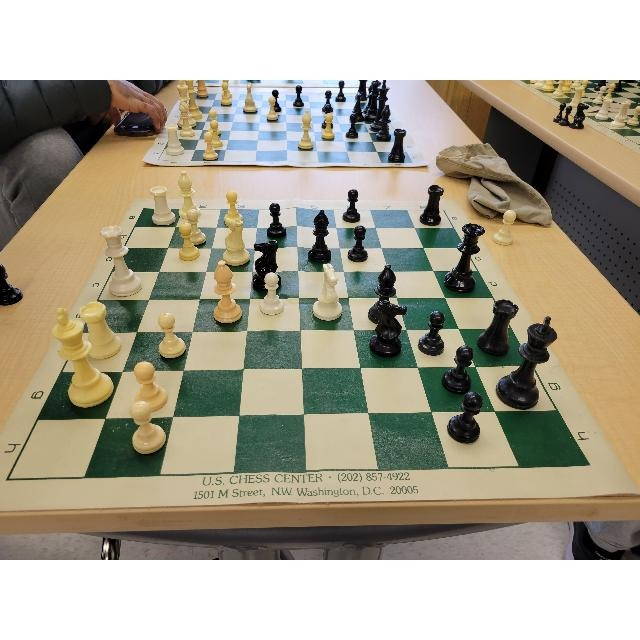black-bishop: (367, 257, 403, 322), (304, 204, 335, 269), (374, 101, 396, 143)
black-king: (493, 312, 563, 412)
black-knight: (367, 296, 410, 362), (250, 238, 283, 290), (349, 92, 365, 123)
black-pawn: (444, 390, 486, 450), (443, 345, 475, 397), (417, 308, 447, 357), (346, 222, 371, 265), (264, 200, 287, 239), (341, 187, 363, 223), (320, 88, 336, 114), (344, 112, 359, 139), (269, 87, 284, 112), (292, 82, 305, 109), (335, 82, 347, 104)
black-queen: (443, 217, 489, 299)
black-rook: (476, 295, 516, 360), (415, 177, 447, 231), (388, 126, 410, 167)
white-bishop: (210, 255, 244, 326), (176, 168, 200, 219), (299, 106, 315, 152), (177, 97, 194, 137)
white-king: (56, 308, 112, 406)
white-knight: (311, 262, 344, 324), (219, 216, 251, 266), (243, 82, 259, 114)
white-pawn: (127, 396, 166, 455), (131, 358, 169, 413), (155, 308, 189, 362), (257, 270, 287, 318), (220, 183, 247, 229), (181, 207, 211, 247), (177, 219, 202, 266), (494, 207, 518, 250), (197, 130, 222, 163), (204, 120, 226, 147), (319, 111, 338, 141), (205, 108, 223, 136), (219, 83, 235, 109), (266, 94, 278, 122)
white-queen: (98, 223, 144, 303)
white-rook: (76, 296, 125, 363), (147, 181, 176, 227), (164, 121, 186, 157)
